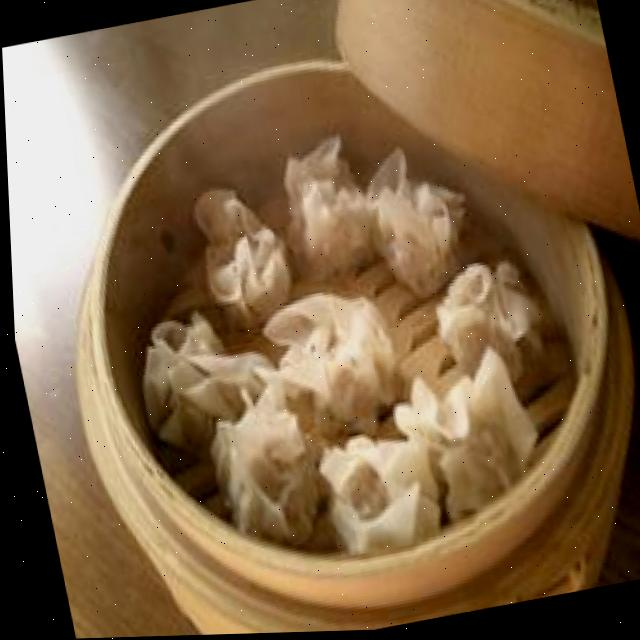带馅早点: (101, 122, 592, 586)
